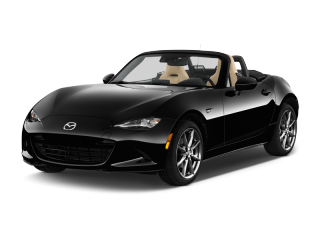car: (15, 47, 317, 190)
